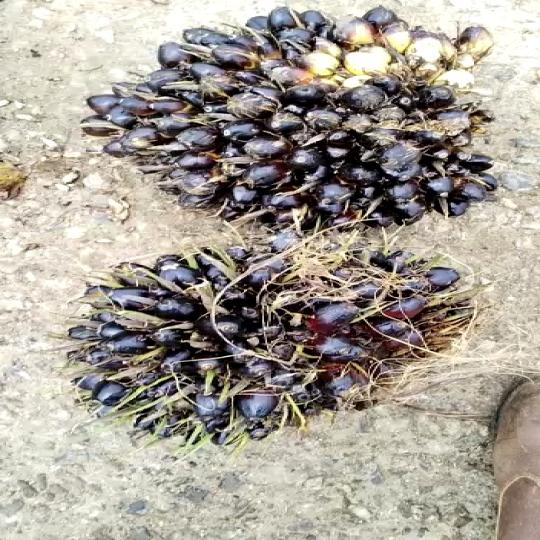mentah: (70, 3, 514, 240), (76, 236, 486, 444)
